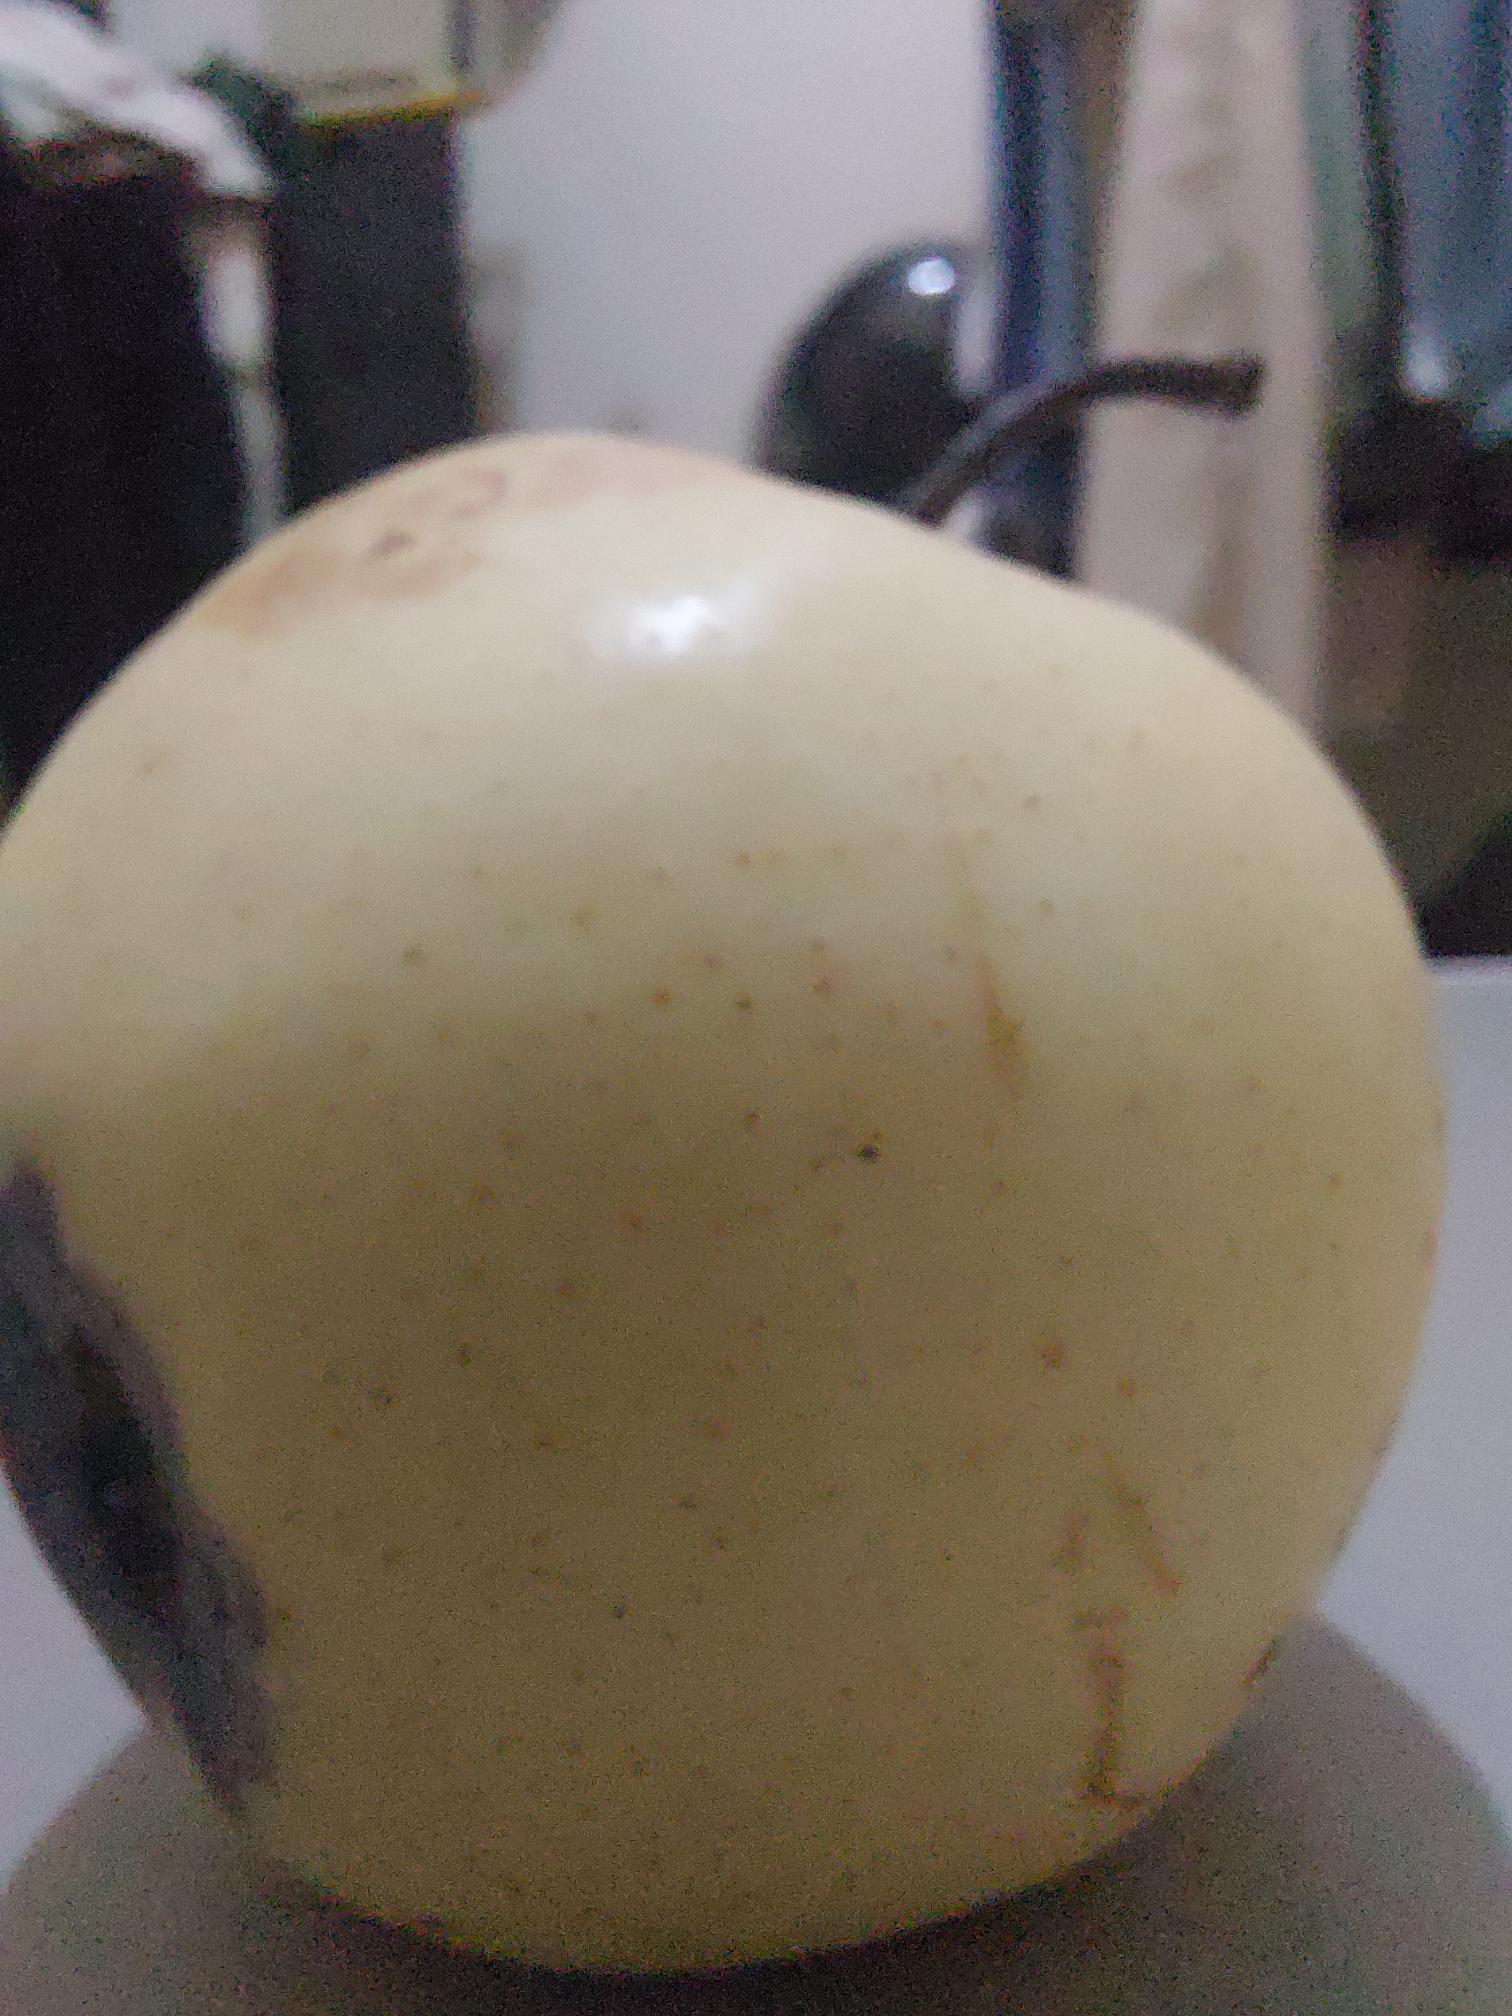Bad Pear: (0, 429, 1433, 1976)
